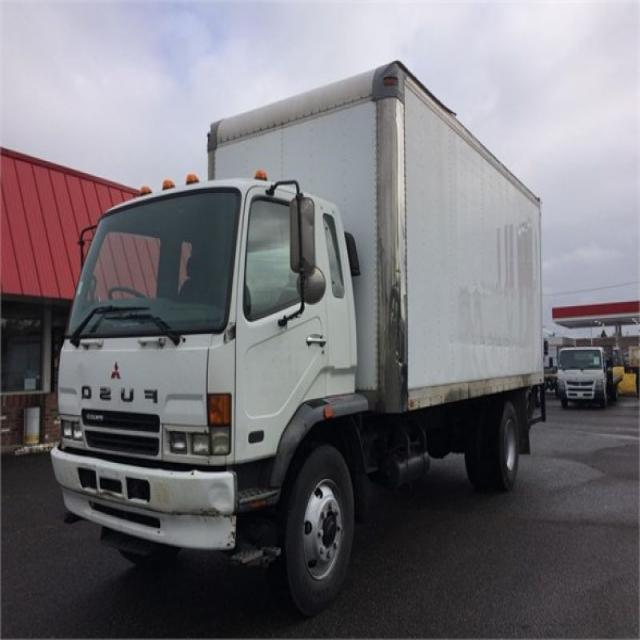truck: (52, 62, 542, 598)
